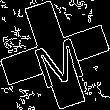M_N: (25, 24, 85, 86)
